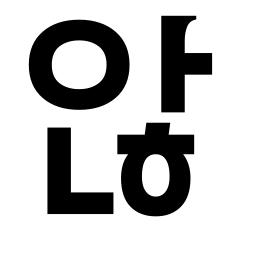Gaji: (145, 39, 202, 91)
